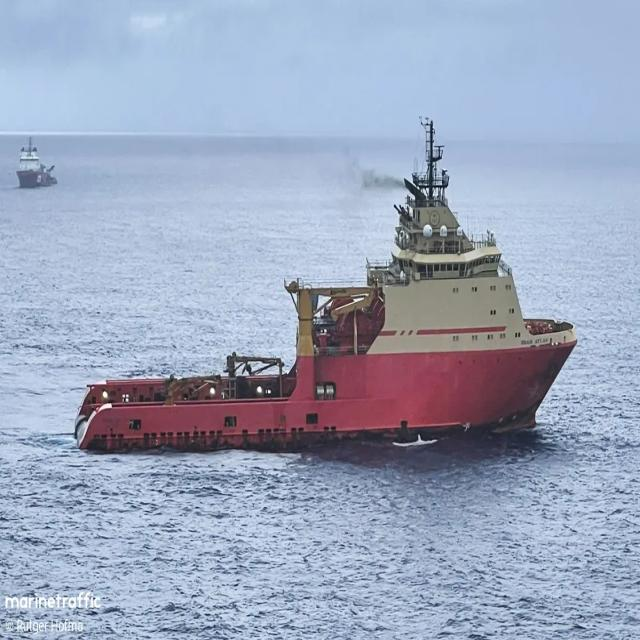Offshore: (74, 120, 576, 452), (16, 139, 57, 187)
